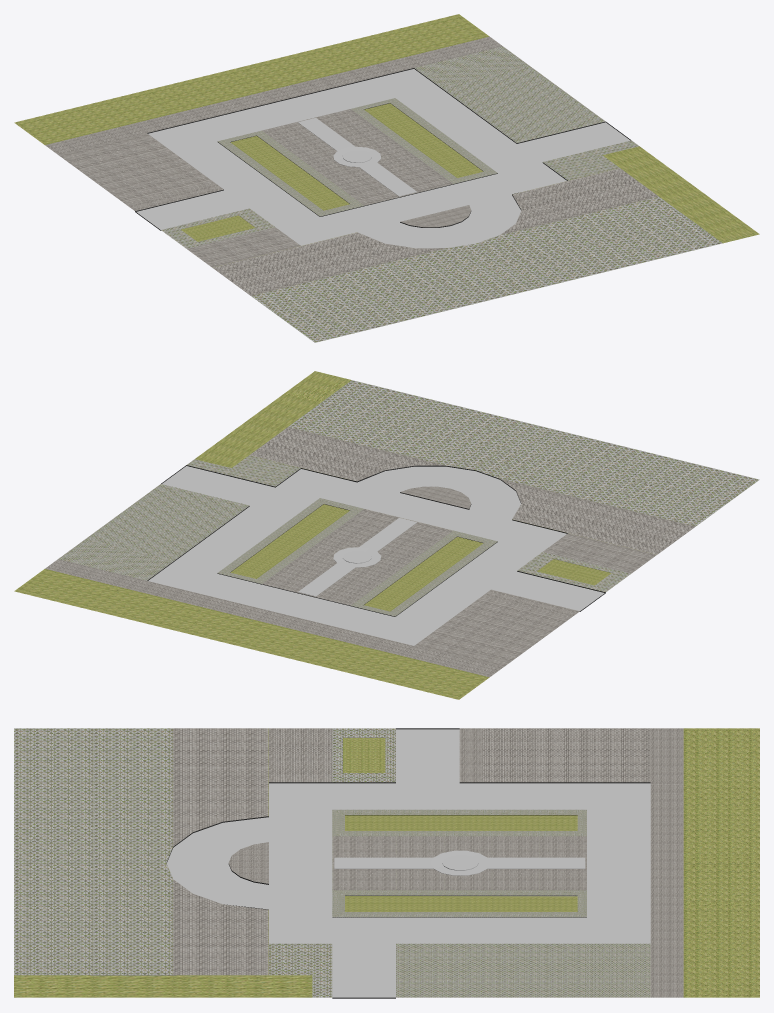
Rendered from fix map.fbx.
The picture shows the model from 3 angles, top to bottom: view 1: azimuth 30°, elevation 25°; view 2: azimuth 150°, elevation 25°; view 3: azimuth 270°, elevation 25°; orthographic projection. The views are drawn at different scales.
Visible parts, largest first — view 1: pCylinder2; view 2: pCylinder2; view 3: pCylinder2.
Boxes of the visible parts, <box> form: pCylinder2: <box>14,14,759,342</box>; pCylinder2: <box>14,371,759,699</box>; pCylinder2: <box>14,728,759,998</box>.
Bounding box in the file's own units: 2385 × 11.14 × 2794.
